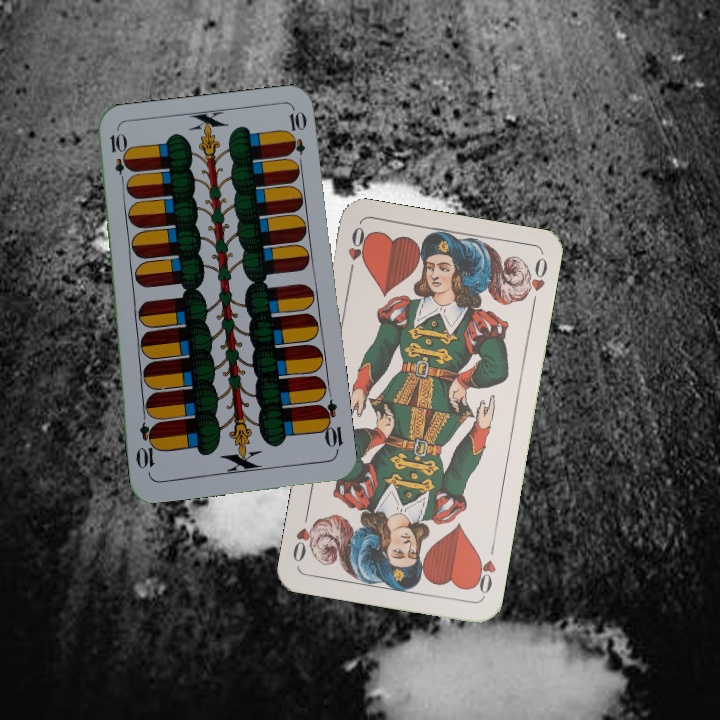E10: (315, 397, 346, 456), (106, 129, 129, 188)
HO: (469, 540, 499, 598), (343, 222, 368, 281)
